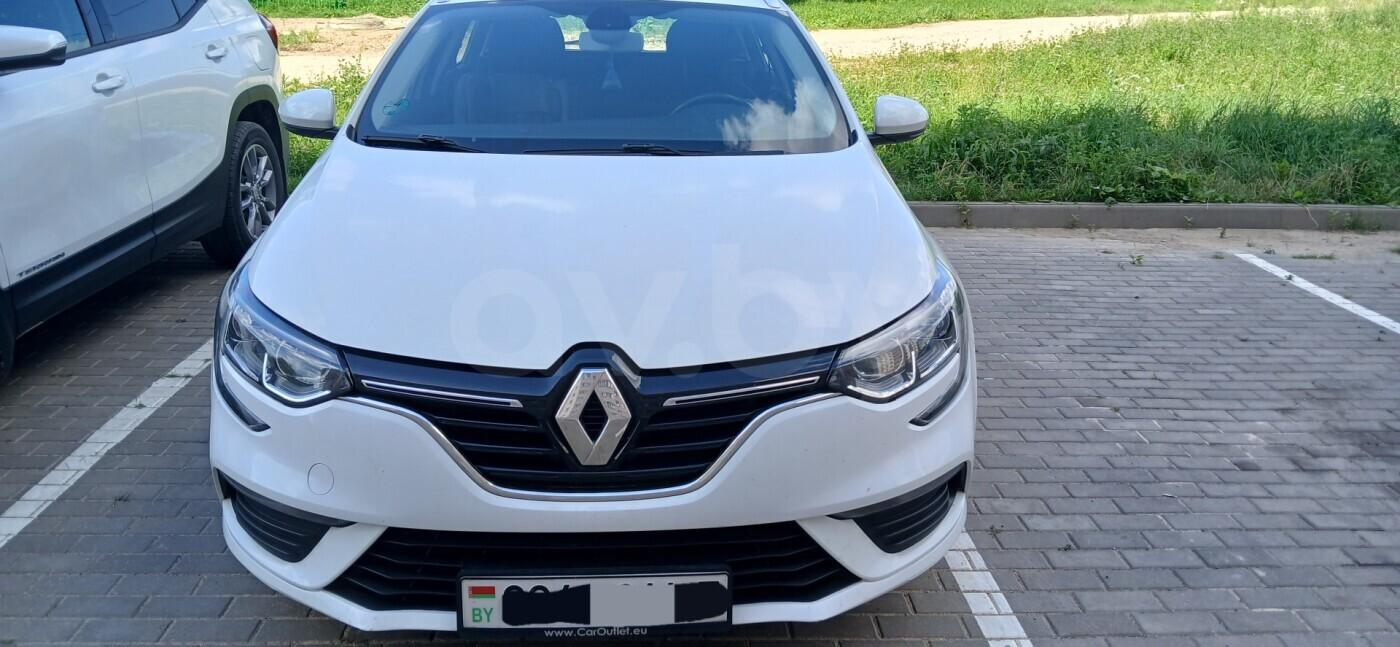Megane_2016-2020: (204, 0, 992, 628)
